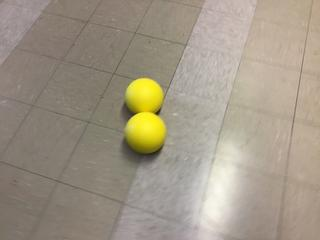power_cell: (122, 112, 167, 153), (121, 76, 168, 113)
